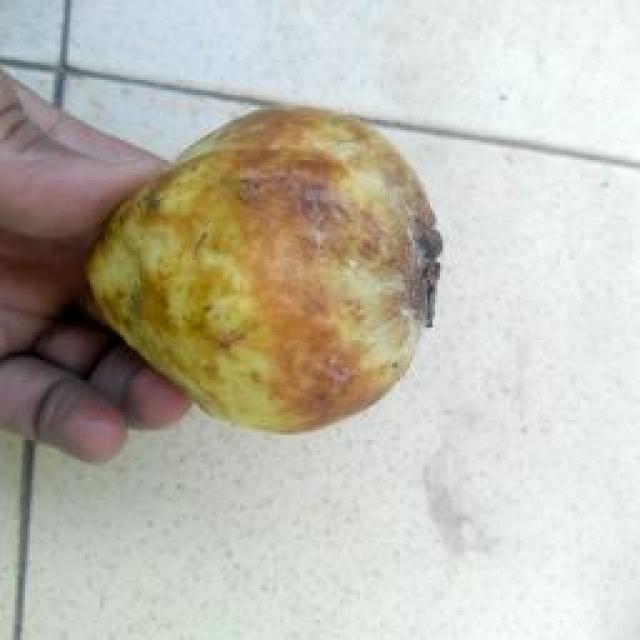Bad_Guava: (88, 108, 442, 431)
